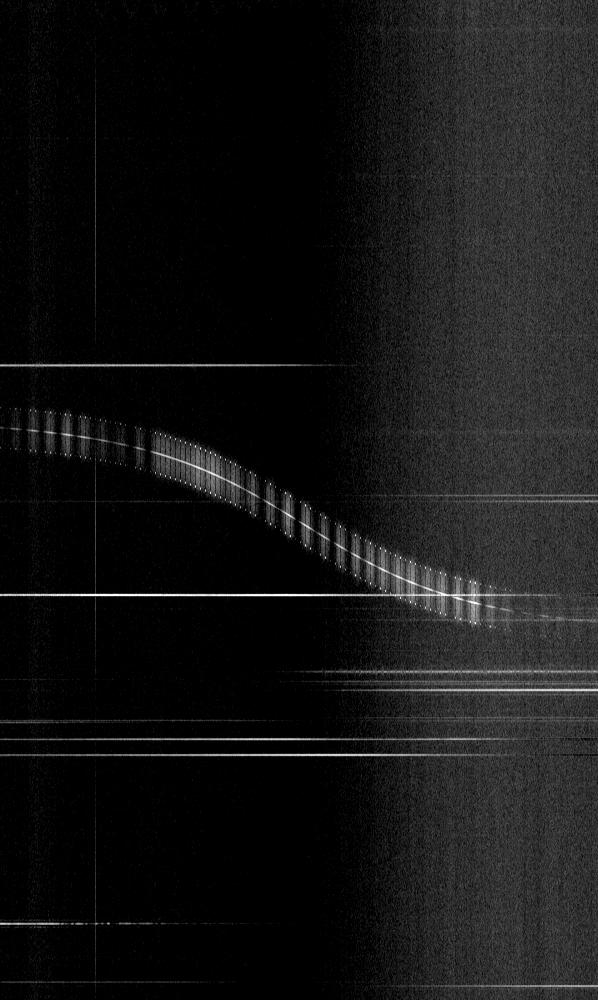signal: (0, 0, 597, 999)
